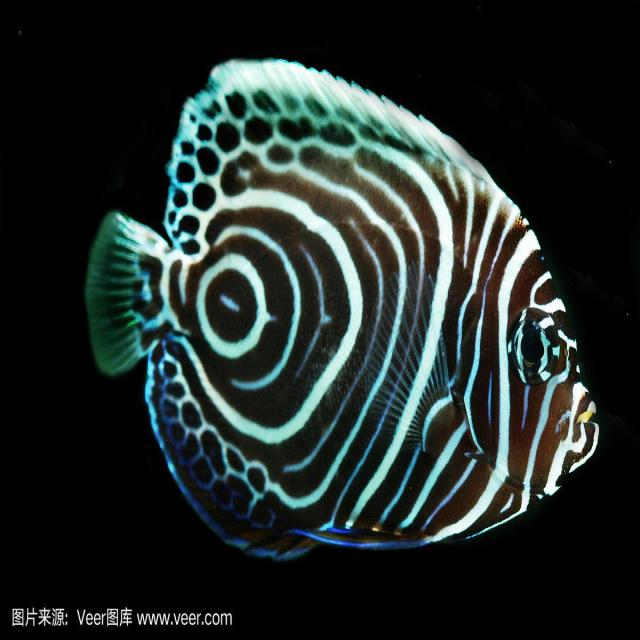AngelFish: (85, 54, 601, 566)
